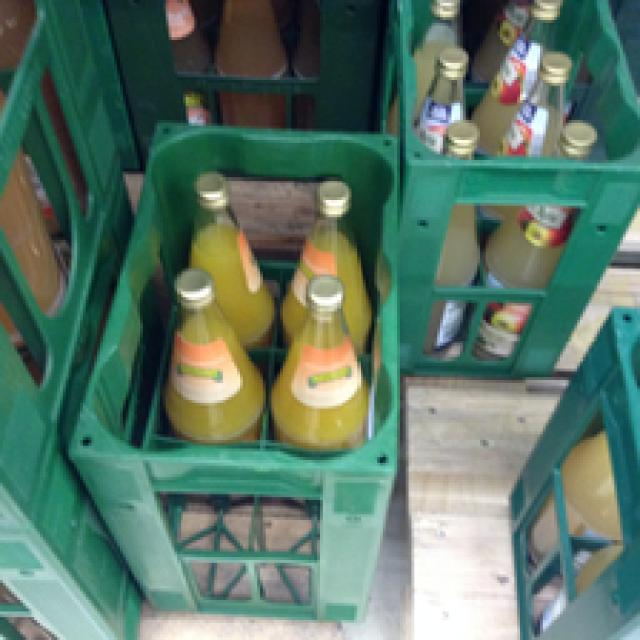groceries: (480, 120, 591, 354), (266, 274, 374, 452), (163, 268, 263, 443), (274, 177, 369, 343), (186, 169, 271, 337)
